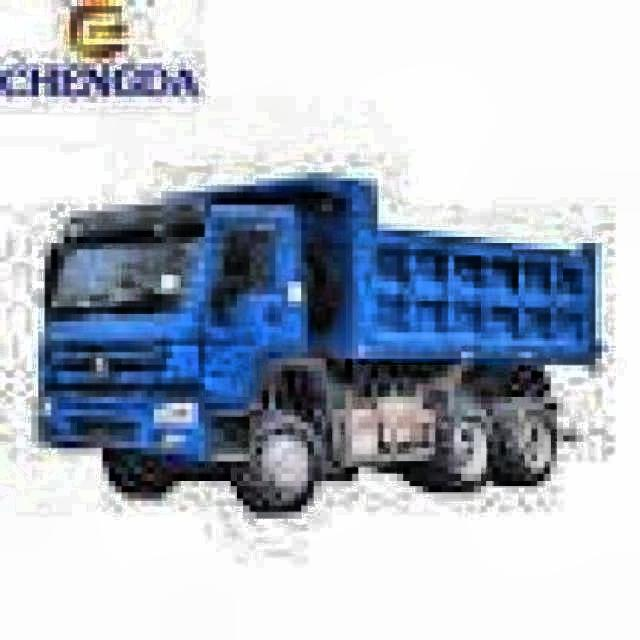dump_truck: (12, 155, 601, 517)
